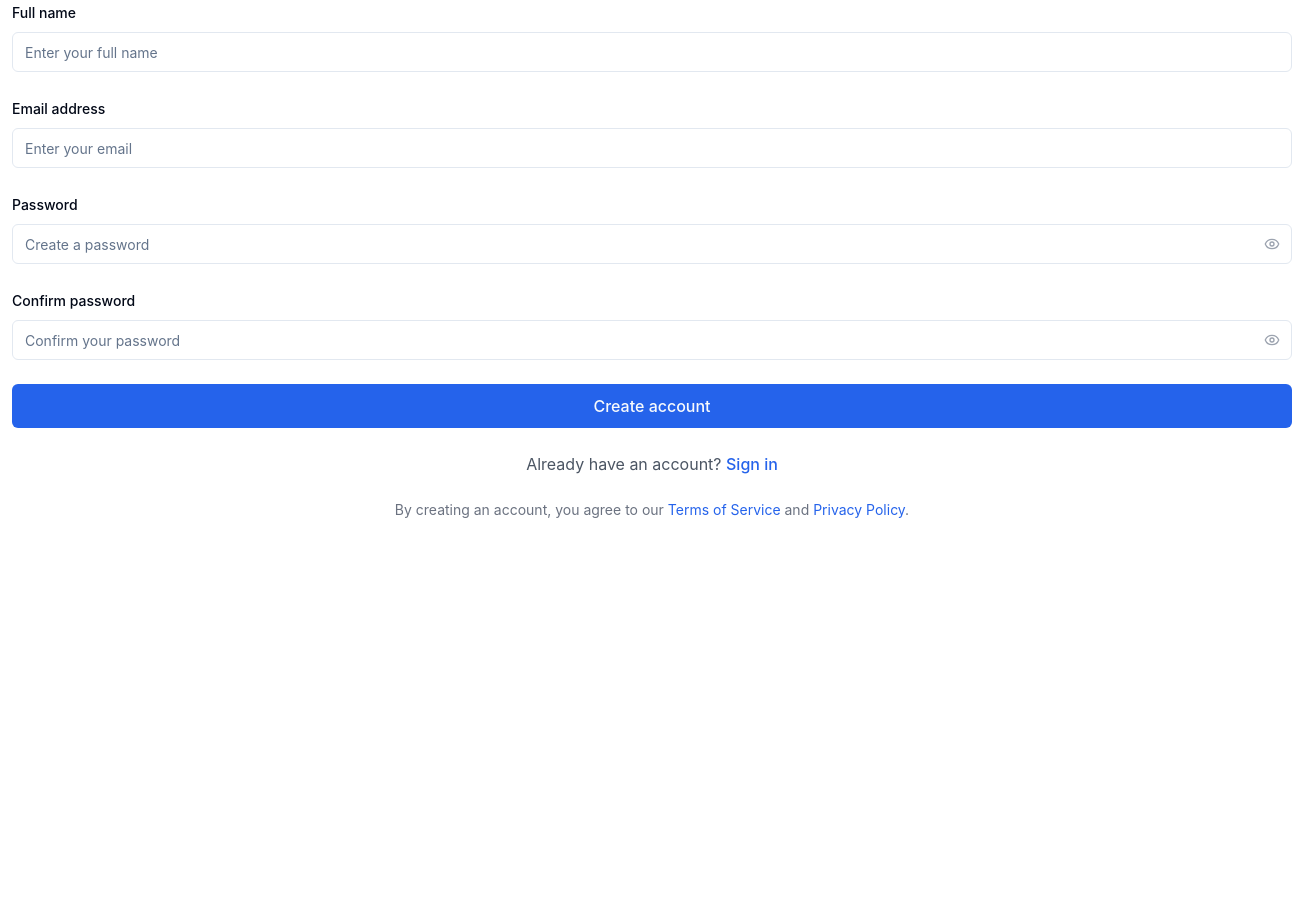
Test: RegisterForm › displays validation errors for empty fields
Click the button "Create account" at (652, 406), box [12, 384, 1292, 428]
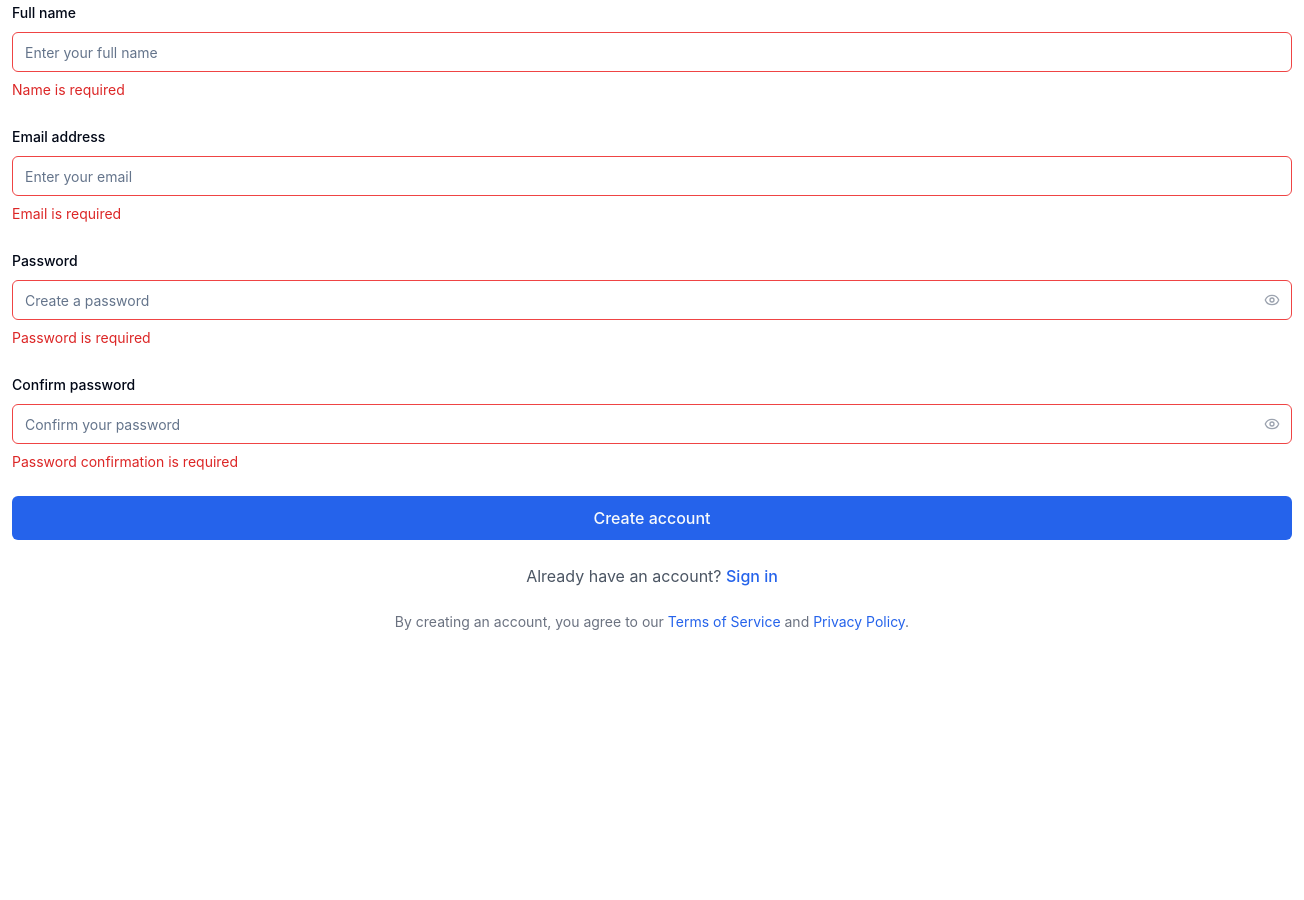
Expected: the text "Name is required" is shown, [12, 81, 125, 98]
Expected: the text "Email is required" is shown, [12, 205, 121, 222]
Expected: the text "Password is required" is shown, [12, 329, 151, 346]
